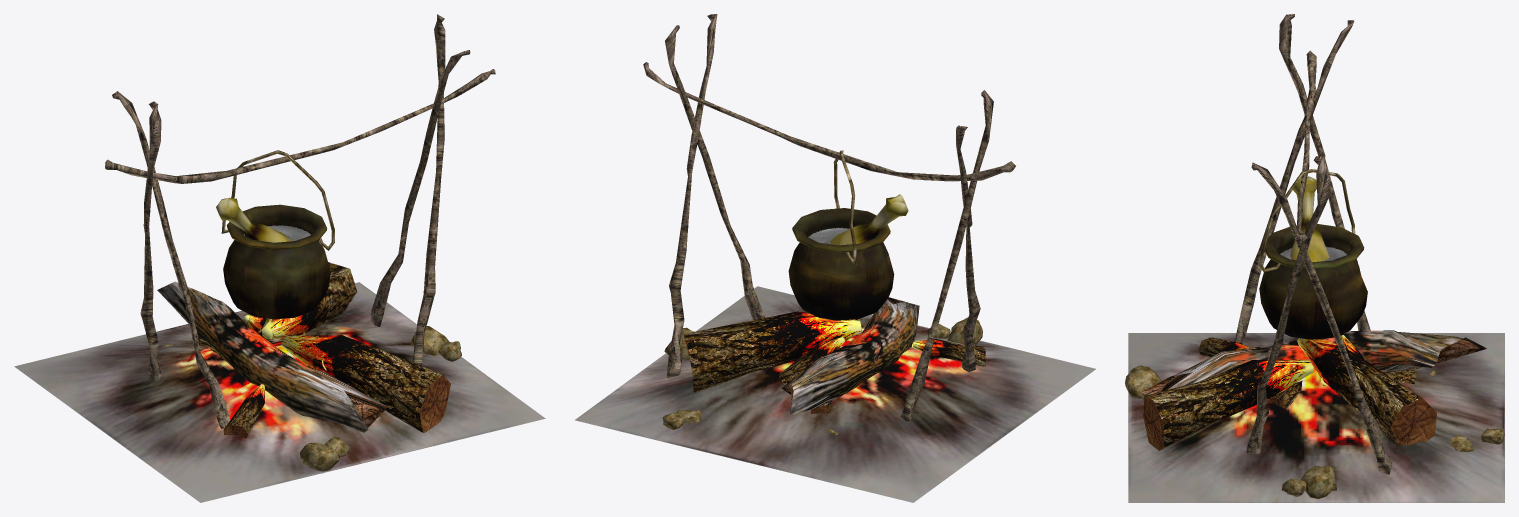
The model's file is CAMPFIRE.fbx.
The picture shows the model from 3 angles, left to right: view 1: azimuth 30°, elevation 25°; view 2: azimuth 150°, elevation 25°; view 3: azimuth 270°, elevation 25°; orthographic projection. The views are drawn at different scales.
Visible parts, largest first — view 1: CAMPFIRE; view 2: CAMPFIRE; view 3: CAMPFIRE.
Part boxes in pixels (x1,y1,x2,y2): CAMPFIRE: (14, 14, 545, 502); CAMPFIRE: (575, 14, 1095, 502); CAMPFIRE: (1125, 14, 1504, 502).
Bounding box in the file's own units: 59951 × 51247 × 50910.
Materials: 11 (11 with a texture image).
